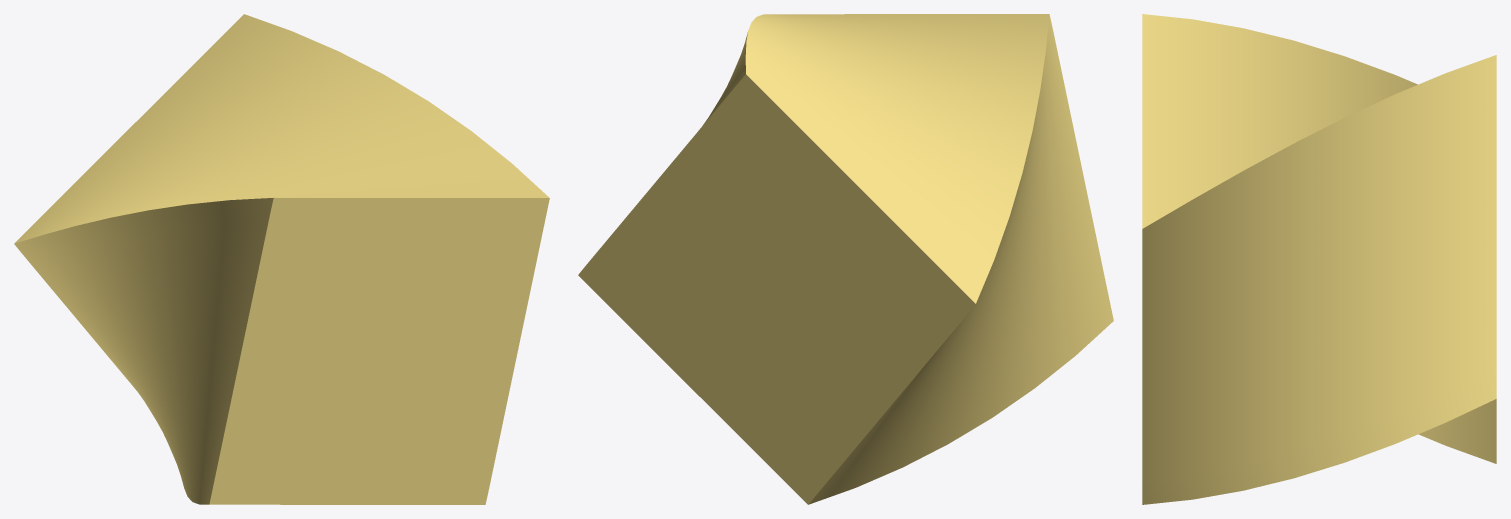
The model's file is Recurso 9.gltf.
3 views of the same model, side by side, from view 1: azimuth 30°, elevation 25°; view 2: azimuth 150°, elevation 25°; view 3: azimuth 270°, elevation 25° (orthographic). The views are drawn at different scales.
Size of the model in its own units: 0.0645 by 0.0644 by 0.0468.
